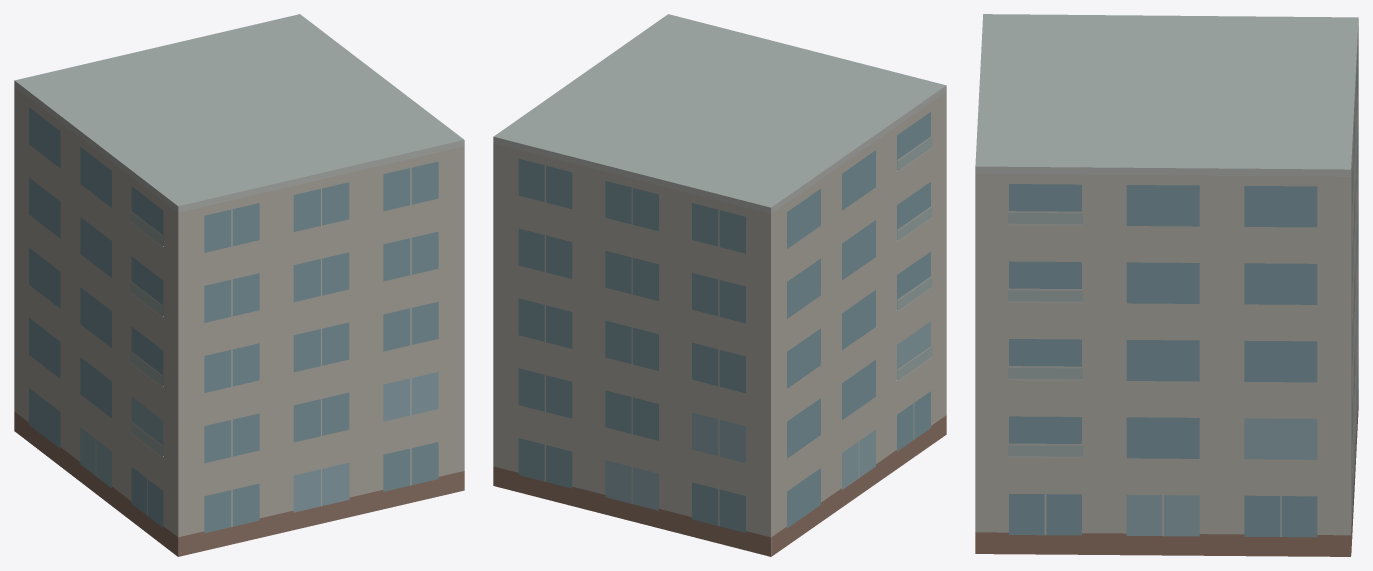
The model's file is survey-upis-32854837.glb.
3 views of the same model, side by side, from view 1: azimuth 30°, elevation 25°; view 2: azimuth 150°, elevation 25°; view 3: azimuth 270°, elevation 25° (orthographic). The views are drawn at different scales.
Parts seen in each view (by area): view 1: survey-upis-32854837.tmp; view 2: survey-upis-32854837.tmp; view 3: survey-upis-32854837.tmp.
Boxes of the visible parts, x1,y1,x2,y2 form: survey-upis-32854837.tmp: (14,14,464,556); survey-upis-32854837.tmp: (493,14,946,556); survey-upis-32854837.tmp: (975,14,1358,556).
Bounding box in the file's own units: 11.47 × 13.3 × 11.94.
